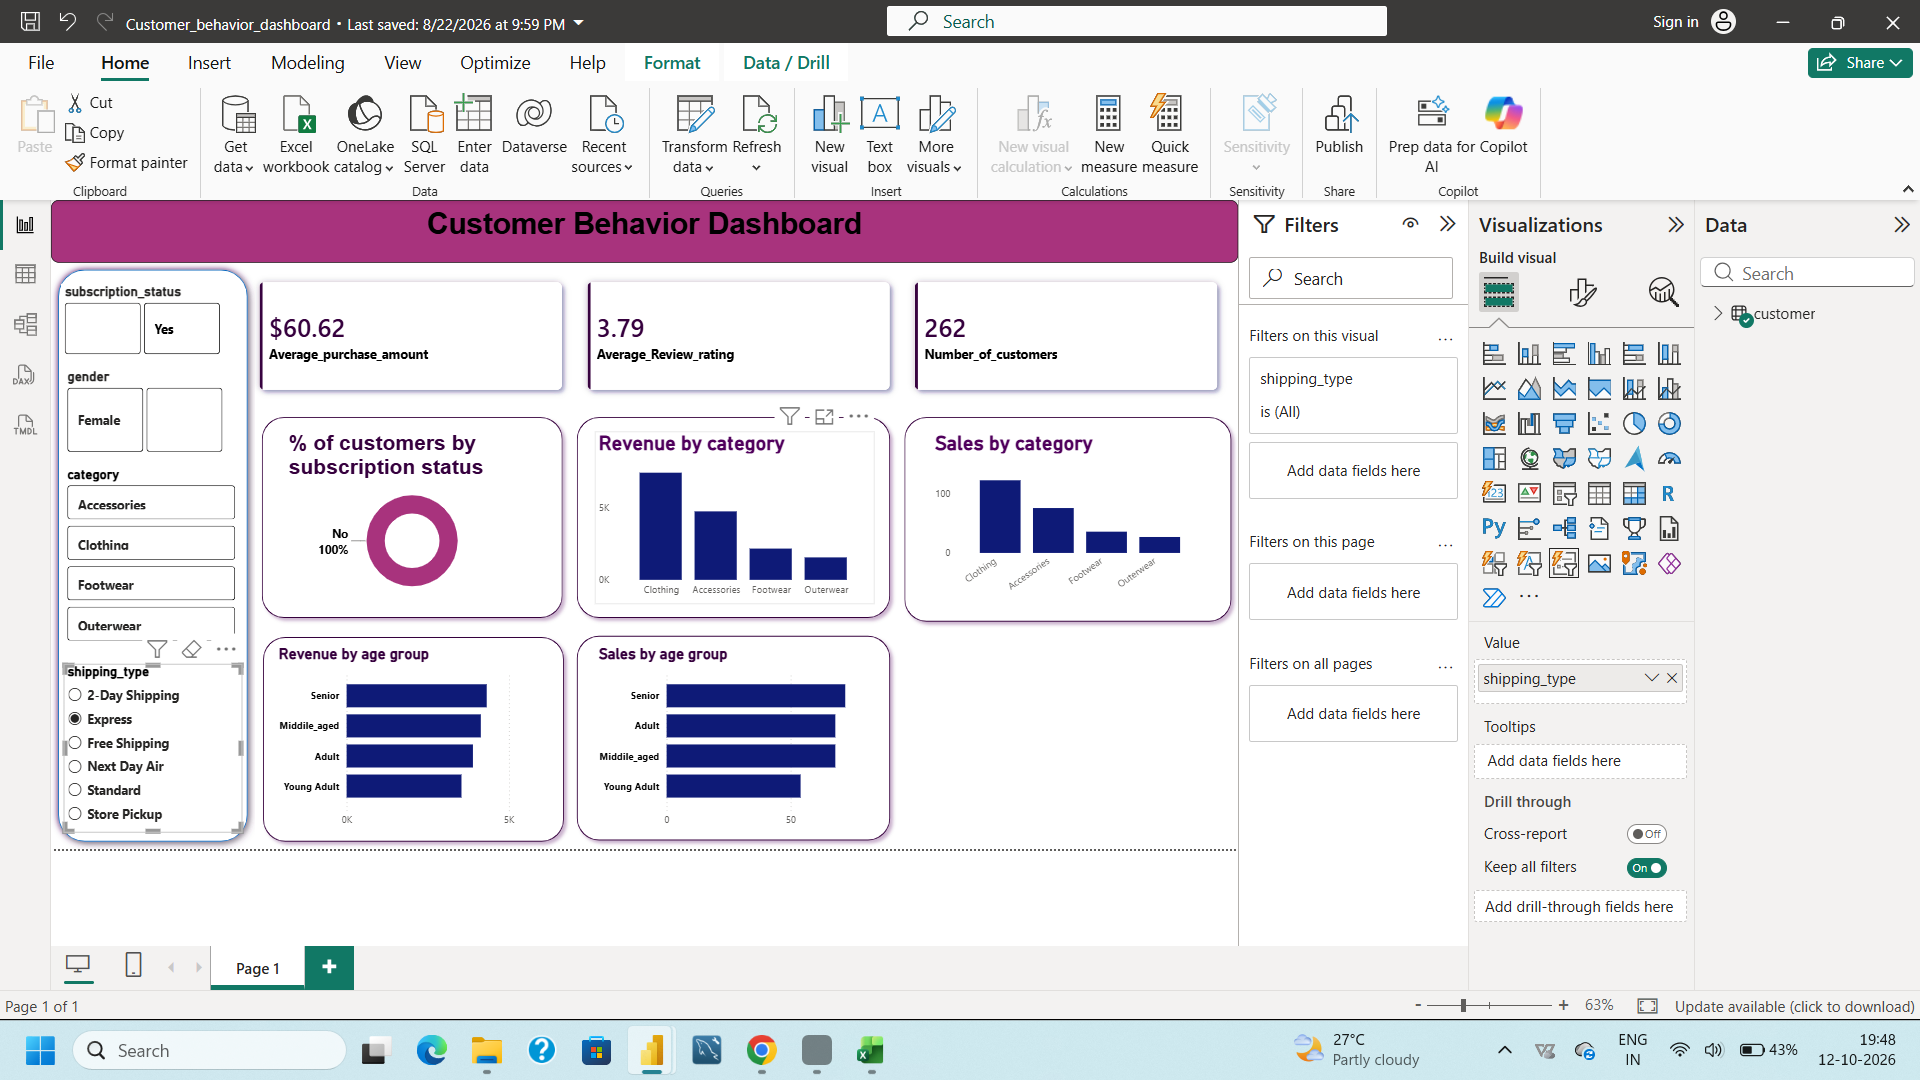

What the dashboard file says about the page in this screenshot:
{"tool":"powerbi","page":{"name":"Page 1","canvas":[1500,820],"ordinal":0},"visuals":[{"type":"cardVisual","fields":{"Data":["customer.Average_purchase_amount","customer.Average_Review_rating","customer.Number_of_customers"]},"box":[238.5,79,1261.8,186.4],"z":0},{"type":"textbox","box":[0,0,1500.3,79],"z":1000},{"type":"shape","box":[655.4,265.3,413.8,271.6],"z":2000},{"type":"shape","box":[257.4,265.3,398,271.6],"z":3000},{"type":"shape","box":[1069.2,265.3,431.1,276.4],"z":4000},{"type":"clusteredColumnChart","title":"Revenue by category","fields":{"Y":["Sum(customer.purchase_amount)"],"Category":["customer.category"]},"box":[687,292.2,353.8,217.9],"z":5000},{"type":"clusteredColumnChart","title":"Sales by category","fields":{"Y":["CountNonNull(customer.purchase_amount)"],"Category":["customer.category"]},"box":[1111.8,292.2,349,217.9],"z":6000},{"type":"shape","box":[0,79,257.4,740.7],"z":7000},{"type":"advancedSlicerVisual","fields":{"Values":["customer.subscription_status"]},"box":[12.6,105.8,206.9,94.8],"z":8000},{"type":"advancedSlicerVisual","fields":{"Values":["customer.gender"]},"box":[15.8,213.2,206.9,110.5],"z":9000},{"type":"advancedSlicerVisual","fields":{"Values":["customer.category"]},"box":[15.8,336.4,222.7,225.8],"z":10000},{"type":"listSlicer","fields":{"Values":["customer.shipping_type"]},"box":[15.8,585.9,225.8,213.2],"z":11000},{"type":"donutChart","title":"% of customers by subscription status","fields":{"Y":["CountNonNull(customer.customer_id)"],"Category":["customer.subscription_status"]},"box":[295.3,292.2,322.2,217.9],"z":12000},{"type":"shape","box":[259,543.3,398,276.4],"z":13000},{"type":"clusteredBarChart","title":"Revenue by age group","fields":{"Y":["Sum(customer.purchase_amount)"],"Category":["customer.age_group"]},"box":[282.7,562.2,349,238.5],"z":14000},{"type":"shape","box":[655.4,541.7,413.8,276.4],"z":15000},{"type":"clusteredBarChart","title":"Sales by age group","fields":{"Y":["CountNonNull(customer.customer_id)"],"Category":["customer.age_group"]},"box":[687,562.2,353.8,238.5],"z":16000}]}

Visuals, with their boxes on the page's 1500x820 design canvas (x1, y1, x2, y2). These are canvas units, not pixel positions in the 1920x1080 screenshot, which may show the page scaled, cropped or inside an application window:
cardVisual - customer.Average_purchase_amount x customer.Average_Review_rating: {"x1": 238, "y1": 79, "x2": 1500, "y2": 265}
textbox: {"x1": 0, "y1": 0, "x2": 1500, "y2": 79}
shape: {"x1": 655, "y1": 265, "x2": 1069, "y2": 537}
shape: {"x1": 257, "y1": 265, "x2": 655, "y2": 537}
shape: {"x1": 1069, "y1": 265, "x2": 1500, "y2": 542}
"Revenue by category" clusteredColumnChart: {"x1": 687, "y1": 292, "x2": 1041, "y2": 510}
"Sales by category" clusteredColumnChart: {"x1": 1112, "y1": 292, "x2": 1461, "y2": 510}
shape: {"x1": 0, "y1": 79, "x2": 257, "y2": 820}
advancedSlicerVisual - customer.subscription_status: {"x1": 13, "y1": 106, "x2": 220, "y2": 201}
advancedSlicerVisual - customer.gender: {"x1": 16, "y1": 213, "x2": 223, "y2": 324}
advancedSlicerVisual - customer.category: {"x1": 16, "y1": 336, "x2": 238, "y2": 562}
listSlicer - customer.shipping_type: {"x1": 16, "y1": 586, "x2": 242, "y2": 799}
"% of customers by subscription status" donutChart: {"x1": 295, "y1": 292, "x2": 618, "y2": 510}
shape: {"x1": 259, "y1": 543, "x2": 657, "y2": 820}
"Revenue by age group" clusteredBarChart: {"x1": 283, "y1": 562, "x2": 632, "y2": 801}
shape: {"x1": 655, "y1": 542, "x2": 1069, "y2": 818}
"Sales by age group" clusteredBarChart: {"x1": 687, "y1": 562, "x2": 1041, "y2": 801}
